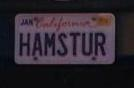A: (32, 32, 43, 56)
H: (19, 31, 31, 57)
M: (43, 32, 56, 57)
R: (94, 31, 107, 57)
S: (57, 31, 68, 56)
T: (68, 32, 81, 57)
U: (81, 32, 94, 56)
